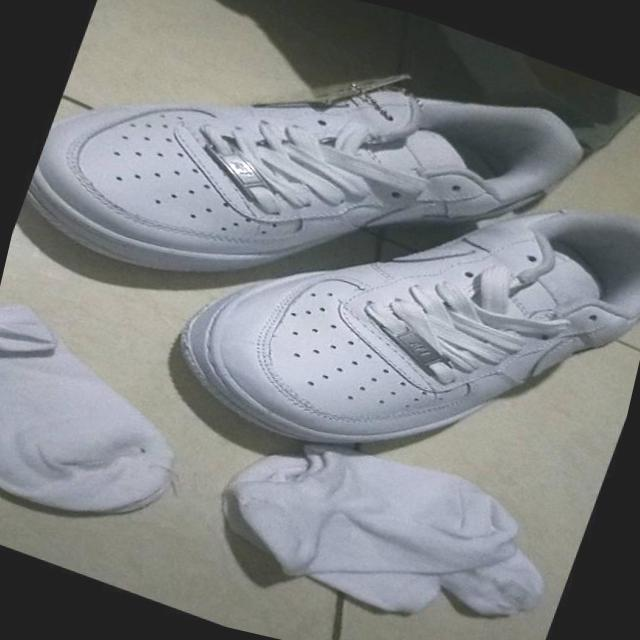nike_fake_airforce: (0, 0, 626, 415), (139, 70, 640, 544), (633, 277, 640, 295)
